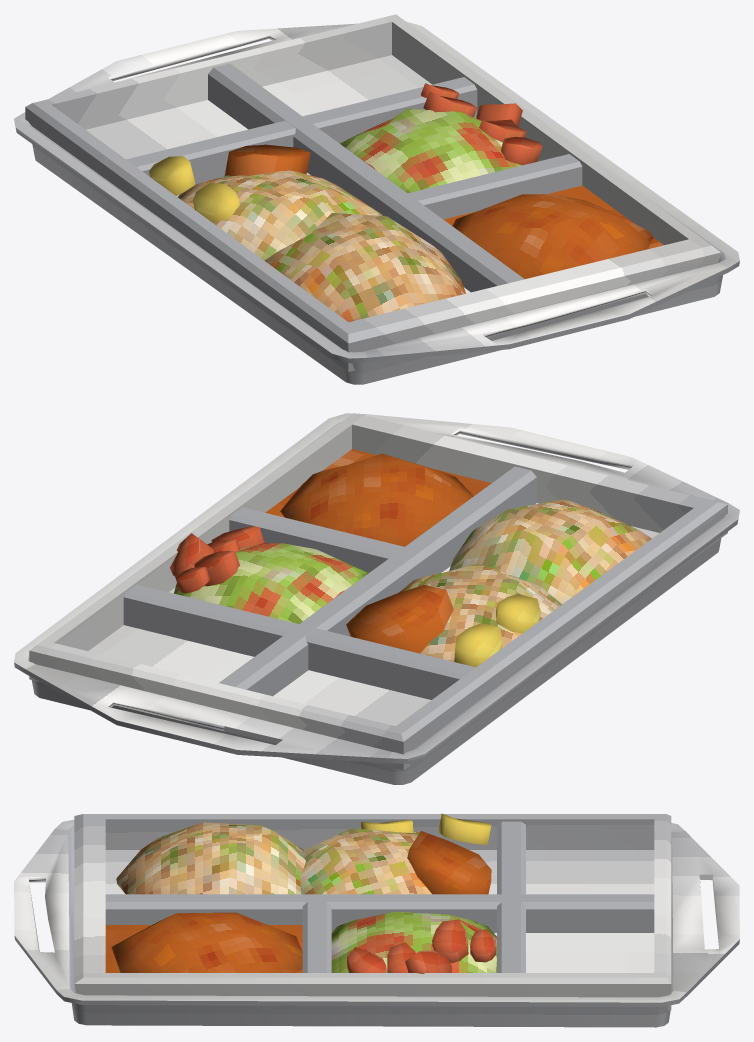
File: MessTray_Food.fbx
The picture shows the model from 3 angles, top to bottom: view 1: azimuth 30°, elevation 25°; view 2: azimuth 150°, elevation 25°; view 3: azimuth 270°, elevation 25°; orthographic projection. The views are drawn at different scales.
Visible parts, largest first — view 1: MessTray; view 2: MessTray; view 3: MessTray.
Part boxes in pixels (x1,y1,x2,y2): MessTray: (14,14,739,384); MessTray: (14,413,739,784); MessTray: (14,813,739,1027).
Bounding box in the file's own units: 58.47 × 10.51 × 97.26.
